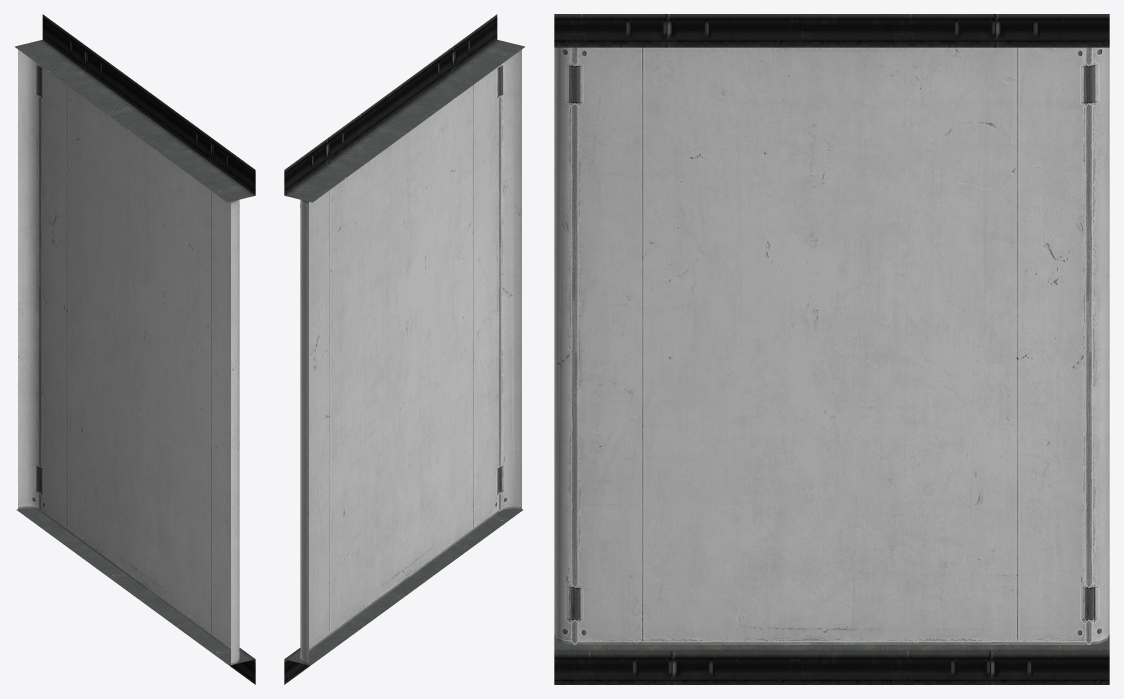
The model's file is Neon_Wall_3x4_01B.FBX.
3 views of the same model, side by side, from view 1: azimuth 30°, elevation 25°; view 2: azimuth 150°, elevation 25°; view 3: azimuth 270°, elevation 25° (orthographic). The views are drawn at different scales.
Visible parts, largest first — view 1: Neon_Wall_3x4_01B; view 2: Neon_Wall_3x4_01B; view 3: Neon_Wall_3x4_01B.
Part boxes in pixels (bbox=[...]): Neon_Wall_3x4_01B: bbox=[15, 14, 255, 684]; Neon_Wall_3x4_01B: bbox=[284, 14, 524, 684]; Neon_Wall_3x4_01B: bbox=[554, 14, 1109, 684].
Size of the model in its own units: 0.2298 by 4 by 3.
